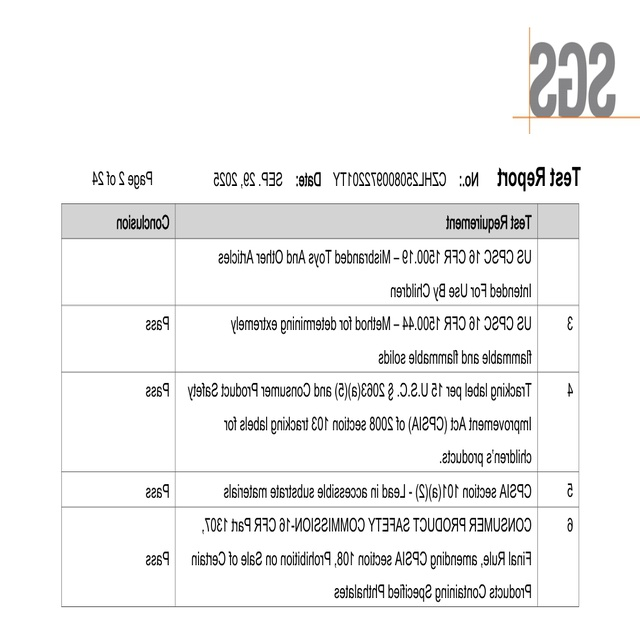sgs: (529, 40, 616, 118)
